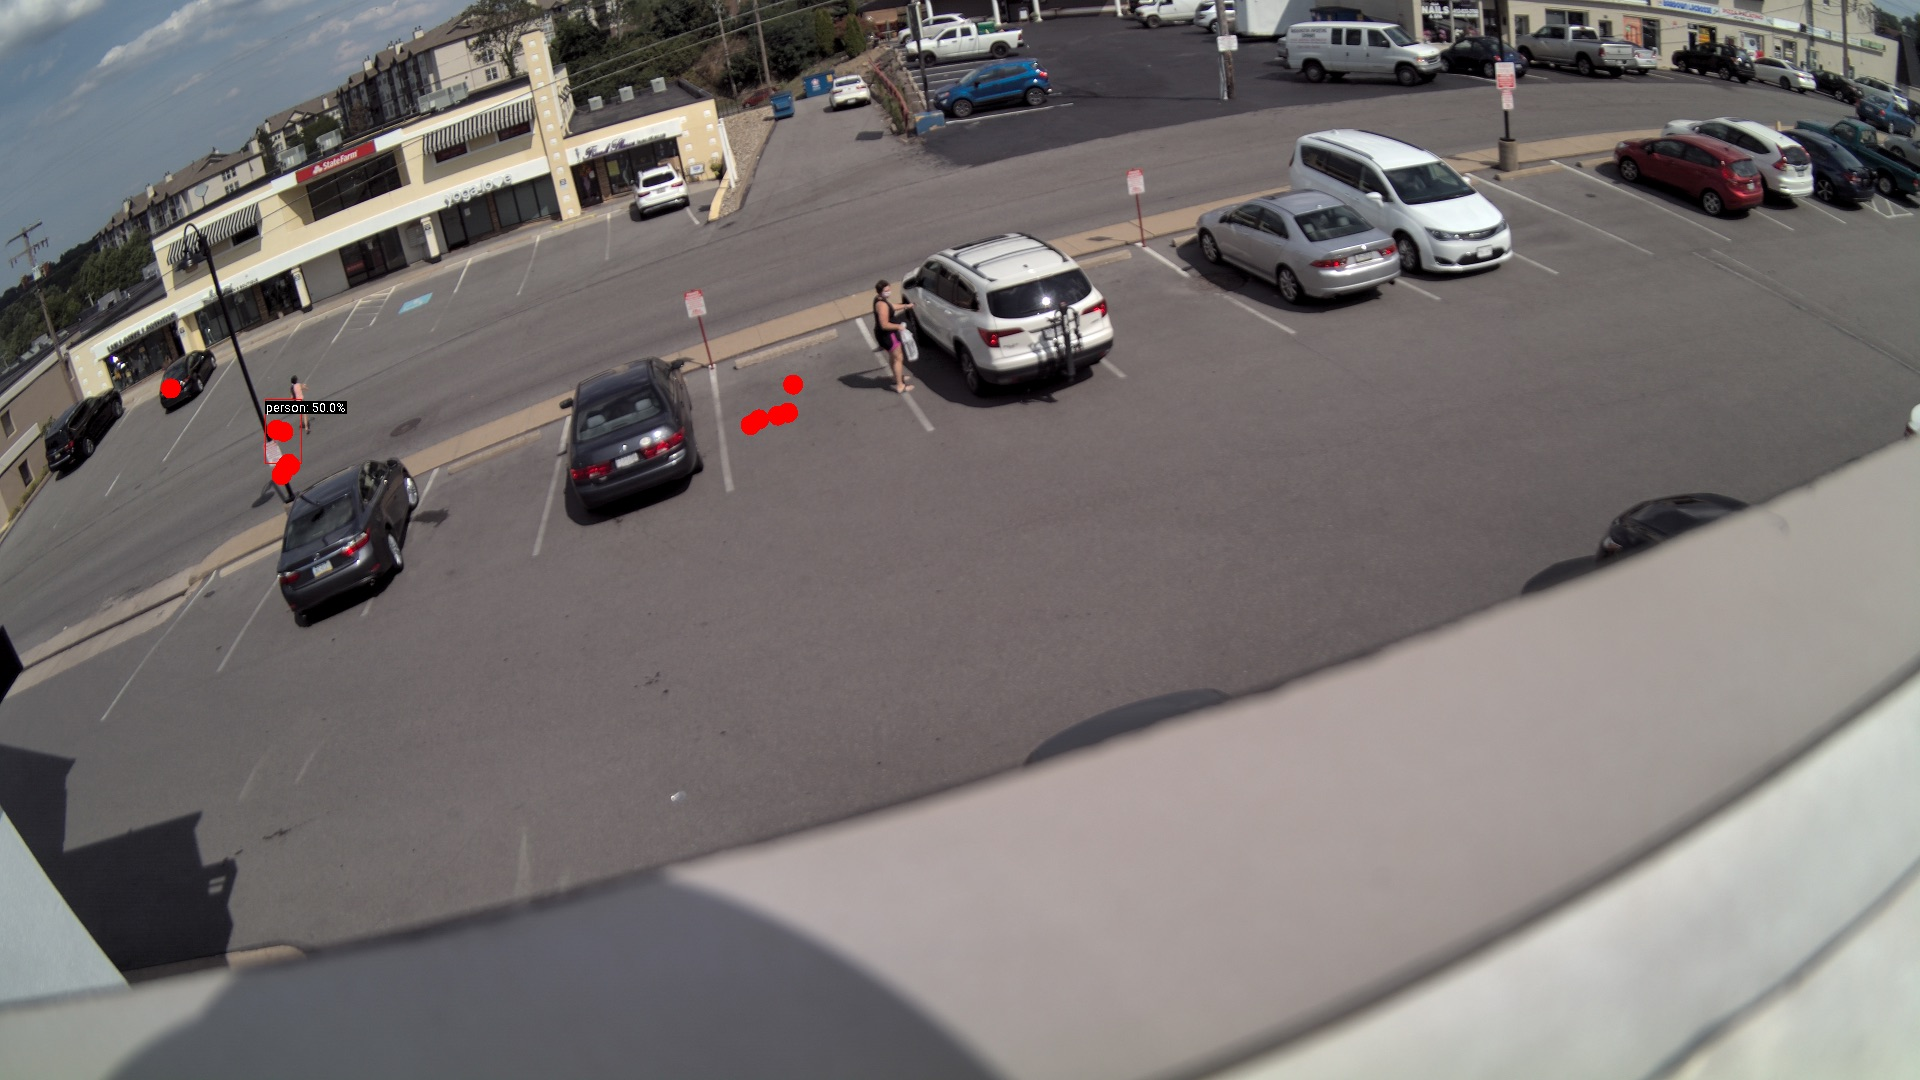person: (871, 281, 914, 394), (288, 377, 317, 422)
